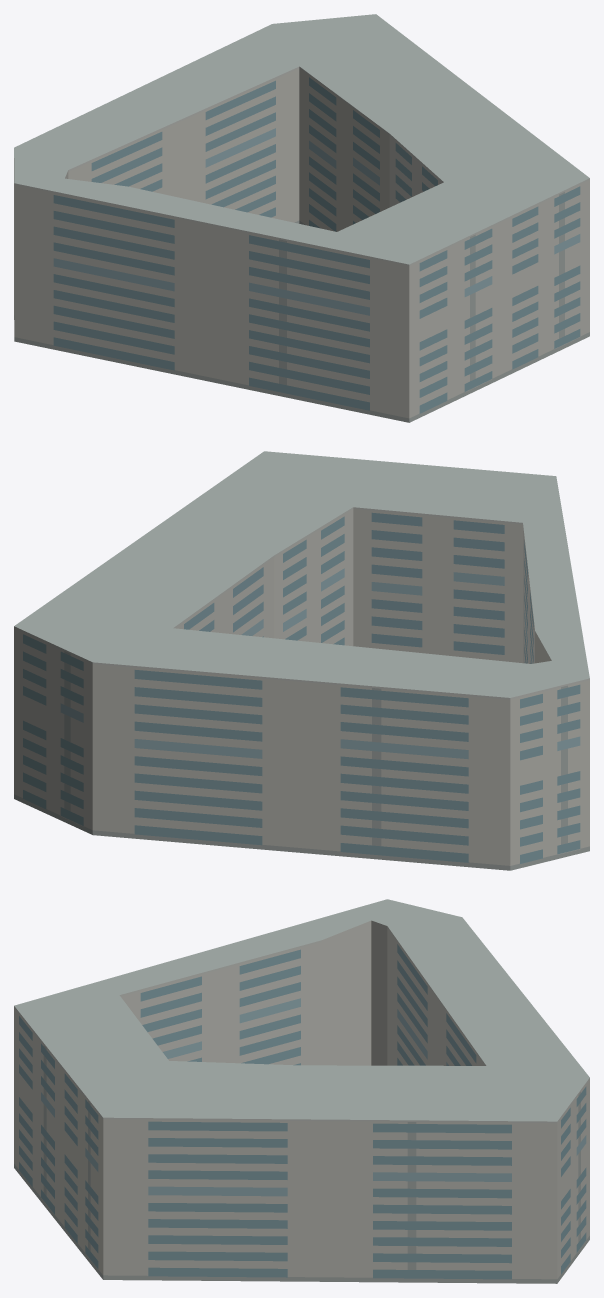
The model's file is residential-032e7549-6c73-4943-b775-8c8f9f5a9cc1.glb.
3 views of the same model, one above another, from view 1: azimuth 30°, elevation 25°; view 2: azimuth 150°, elevation 25°; view 3: azimuth 270°, elevation 25° (orthographic). The views are drawn at different scales.
Parts seen in each view (by area): view 1: residential-032e7549-6c73-4943-b775-8c8f9f5a9cc1.tmp; view 2: residential-032e7549-6c73-4943-b775-8c8f9f5a9cc1.tmp; view 3: residential-032e7549-6c73-4943-b775-8c8f9f5a9cc1.tmp.
Part boxes in pixels (x1,y1,x2,y2): residential-032e7549-6c73-4943-b775-8c8f9f5a9cc1.tmp: (14, 14, 589, 422); residential-032e7549-6c73-4943-b775-8c8f9f5a9cc1.tmp: (14, 451, 589, 870); residential-032e7549-6c73-4943-b775-8c8f9f5a9cc1.tmp: (14, 899, 589, 1283).
Size of the model in its own units: 70.57 by 24 by 77.22.
